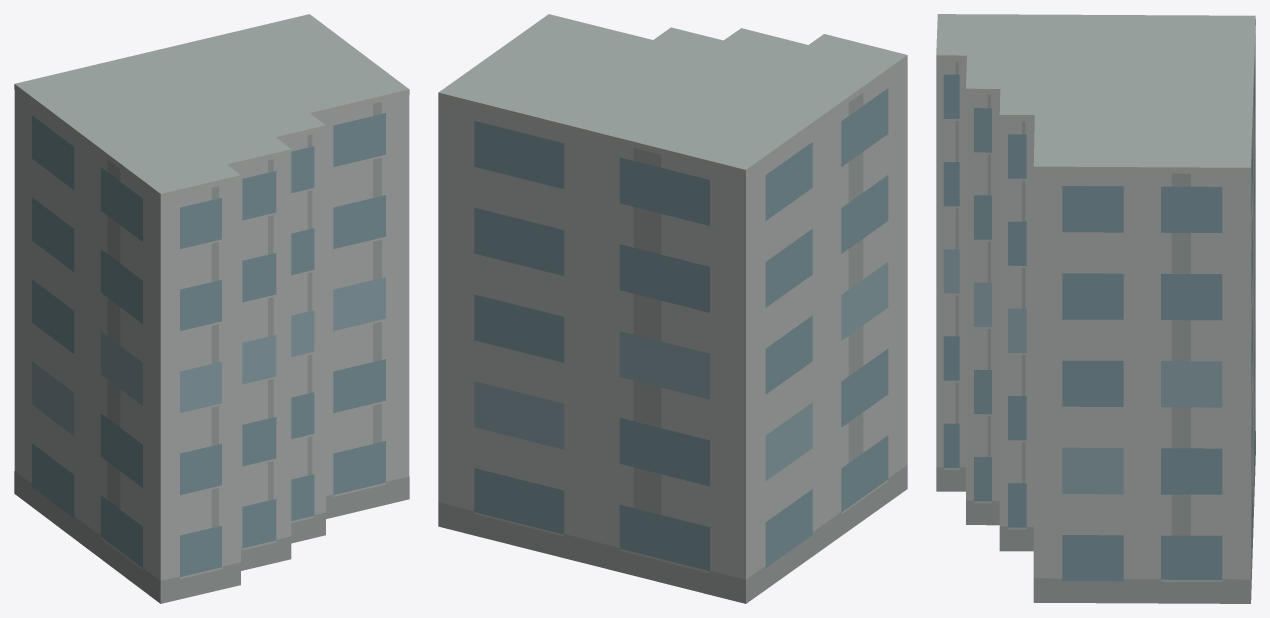
File: survey-upis-32838253.glb
The picture shows the model from 3 angles, left to right: view 1: azimuth 30°, elevation 25°; view 2: azimuth 150°, elevation 25°; view 3: azimuth 270°, elevation 25°; orthographic projection. The views are drawn at different scales.
Visible parts, largest first — view 1: survey-upis-32838253.tmp; view 2: survey-upis-32838253.tmp; view 3: survey-upis-32838253.tmp.
Boxes of the visible parts, x1,y1,x2,y2 form: survey-upis-32838253.tmp: (14,14,409,603); survey-upis-32838253.tmp: (438,14,907,603); survey-upis-32838253.tmp: (936,14,1255,603).
Size of the model in its own units: 13.09 by 17.3 by 11.5.
